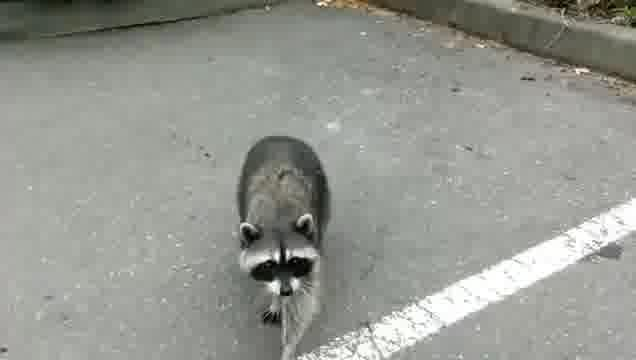raccoon: (237, 136, 332, 360)
